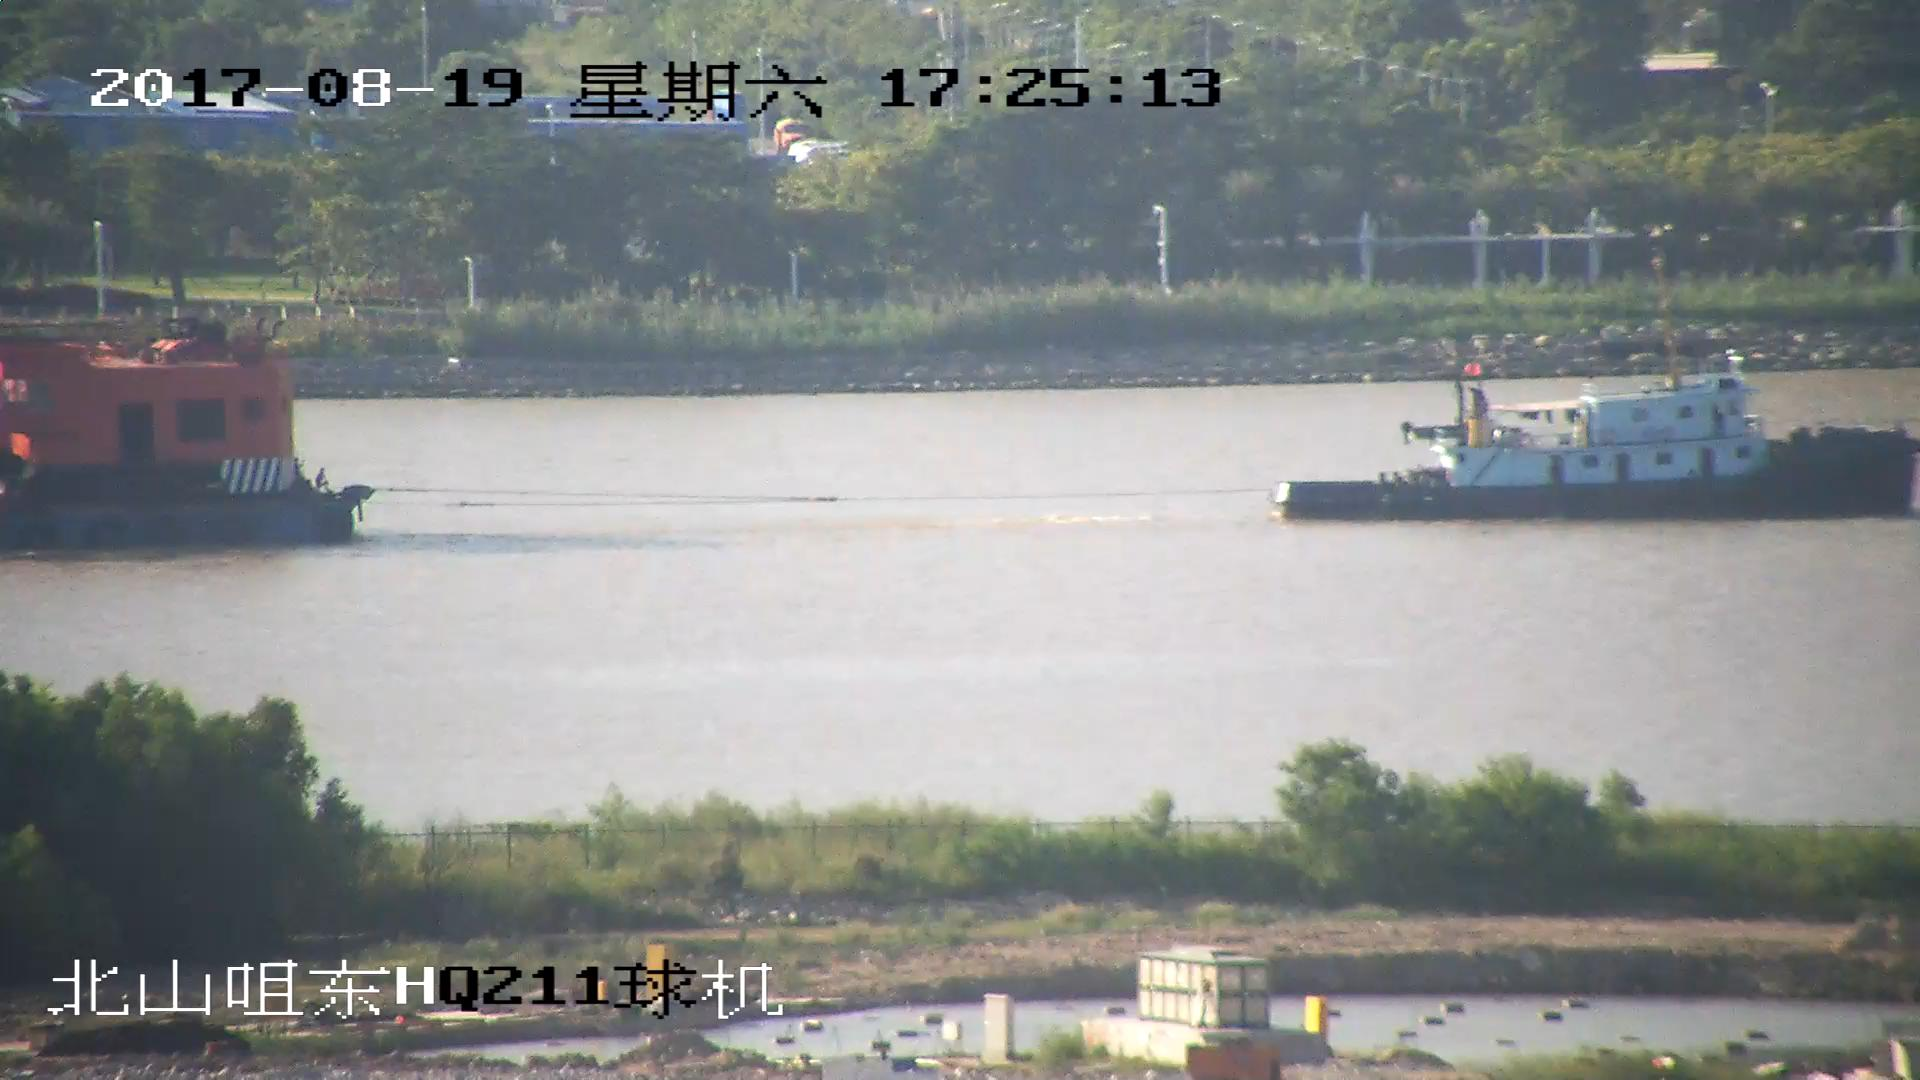fishing boat: (1279, 355, 1920, 515), (1, 328, 374, 549)
